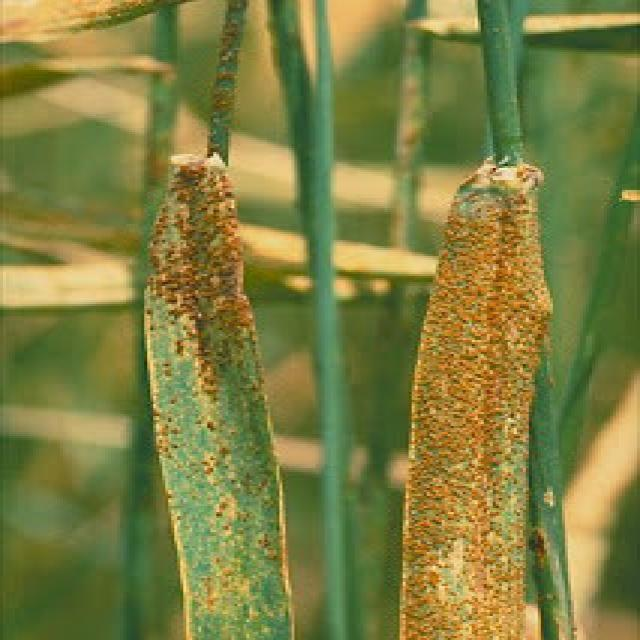wheat-stemrust: (397, 160, 553, 640), (141, 152, 294, 640)
